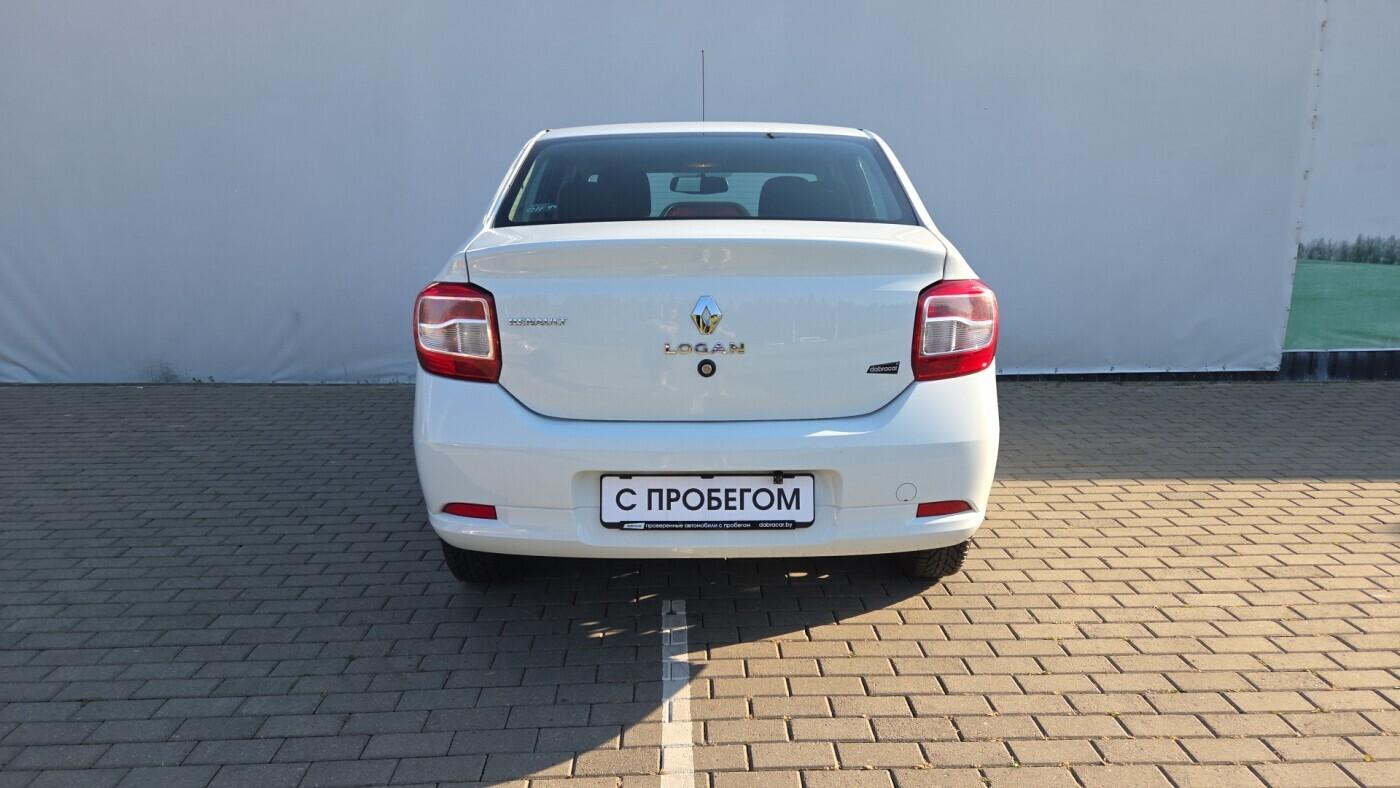Logan_2018: (411, 115, 1012, 577)
